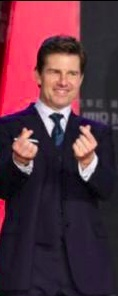oneheart: (6, 125, 41, 160), (67, 123, 102, 158)
